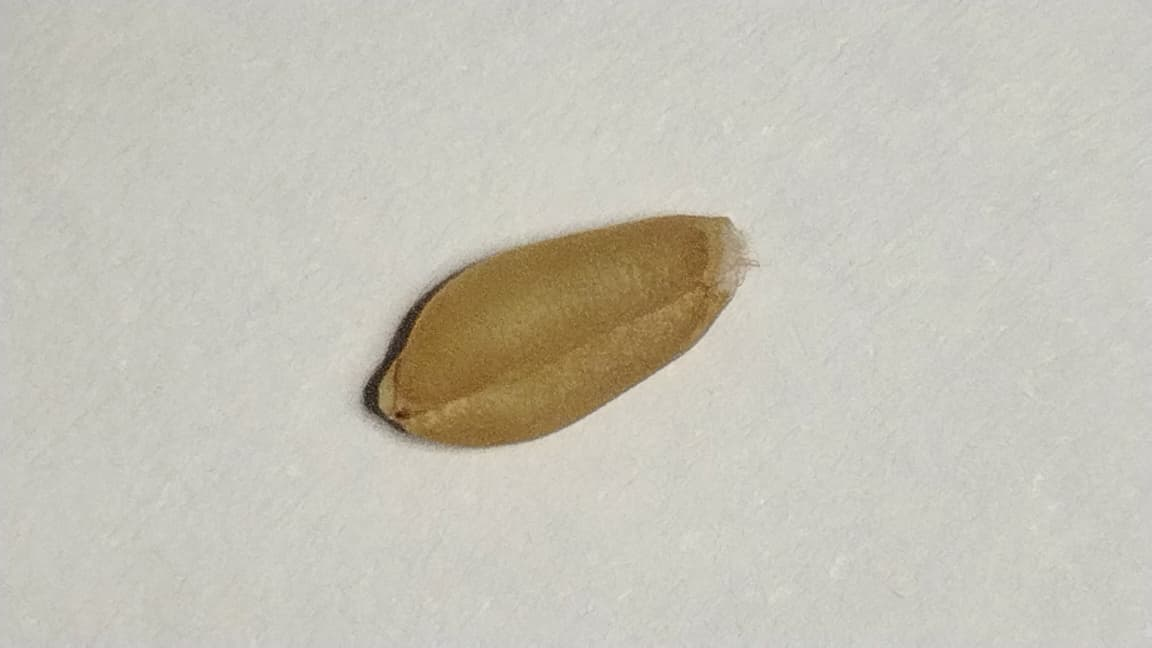healthy: (377, 217, 756, 447)
